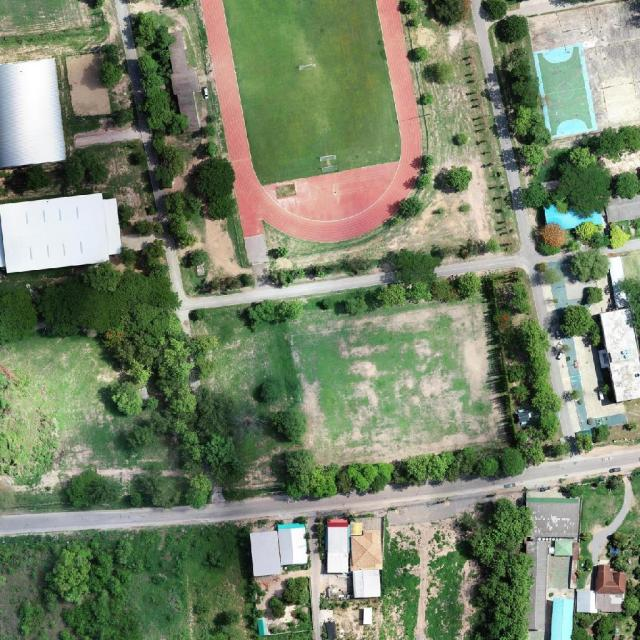building: (526, 491, 581, 639), (0, 59, 67, 169), (600, 308, 640, 402), (574, 565, 627, 613), (249, 530, 281, 577), (277, 522, 308, 566), (326, 517, 349, 573), (351, 530, 381, 569), (352, 569, 381, 599), (355, 518, 383, 531)
greenland: (480, 265, 573, 467), (508, 118, 640, 234), (277, 443, 527, 499), (464, 499, 532, 639), (315, 270, 485, 320), (129, 8, 188, 138), (66, 464, 213, 509), (0, 370, 58, 481), (3, 148, 109, 198), (501, 89, 562, 175), (180, 246, 255, 295), (563, 474, 629, 521), (193, 157, 237, 219), (267, 397, 317, 447), (387, 246, 442, 291), (150, 131, 189, 189), (164, 191, 201, 248), (496, 47, 538, 96), (574, 220, 631, 252), (541, 429, 596, 462), (132, 238, 170, 281), (248, 296, 304, 325), (573, 614, 635, 640), (570, 249, 610, 283), (619, 278, 640, 339), (99, 43, 125, 89), (560, 305, 594, 337), (434, 166, 473, 193), (536, 223, 568, 255), (394, 193, 427, 223), (496, 15, 529, 43), (622, 581, 640, 631), (430, 0, 464, 25), (422, 60, 455, 84), (398, 0, 421, 30), (259, 379, 282, 402), (592, 423, 611, 443), (119, 245, 136, 267), (408, 46, 429, 62), (605, 475, 624, 492), (162, 1, 194, 8), (112, 111, 126, 126), (128, 151, 141, 166), (121, 114, 134, 126)
metalled_road: (0, 477, 512, 550), (178, 268, 391, 320), (512, 442, 640, 491), (113, 0, 148, 105), (135, 110, 165, 212), (434, 253, 525, 277), (162, 235, 187, 304), (163, 243, 187, 303), (243, 233, 270, 266), (177, 308, 191, 332), (179, 310, 189, 332)
